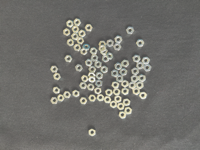nut: (136, 39, 145, 47), (142, 57, 151, 65), (119, 111, 127, 120), (74, 18, 82, 26), (85, 24, 93, 32), (67, 39, 75, 47), (77, 37, 85, 45), (74, 44, 82, 52), (114, 43, 122, 51), (100, 48, 108, 56), (106, 52, 114, 60), (102, 55, 110, 63), (90, 47, 98, 55), (65, 55, 73, 63), (54, 73, 62, 81), (133, 55, 141, 63), (137, 62, 145, 70), (144, 64, 152, 72), (122, 60, 130, 68), (115, 63, 123, 71), (120, 68, 128, 76), (131, 75, 139, 83), (81, 75, 89, 83), (80, 97, 88, 105), (97, 94, 105, 102), (112, 81, 120, 89), (133, 88, 141, 96), (140, 92, 148, 100), (105, 89, 113, 97), (104, 96, 112, 104), (123, 99, 131, 107), (110, 101, 118, 109), (117, 103, 125, 111), (125, 107, 133, 115), (67, 20, 74, 28), (72, 26, 80, 33), (127, 27, 135, 34), (115, 36, 123, 43), (107, 39, 114, 47), (99, 41, 107, 48), (99, 44, 106, 52), (83, 44, 91, 51), (81, 48, 88, 56), (91, 55, 99, 62), (76, 64, 83, 72), (51, 66, 59, 73), (53, 87, 61, 94), (86, 59, 93, 67), (95, 61, 102, 69), (101, 66, 108, 74), (132, 68, 140, 75), (139, 74, 146, 82), (112, 70, 119, 78), (89, 66, 97, 73), (89, 76, 97, 83), (117, 75, 124, 83), (122, 80, 129, 88), (96, 80, 103, 88), (87, 84, 95, 91), (80, 82, 87, 90), (73, 90, 80, 98), (95, 87, 102, 95), (89, 95, 97, 102), (129, 82, 136, 90), (136, 82, 144, 89), (122, 88, 129, 96), (113, 89, 121, 96), (89, 129, 96, 137), (64, 29, 71, 36), (79, 30, 86, 37), (72, 33, 79, 40), (96, 72, 103, 79), (51, 97, 58, 104), (58, 95, 65, 102), (64, 92, 71, 99), (115, 96, 122, 103), (88, 72, 96, 78)
